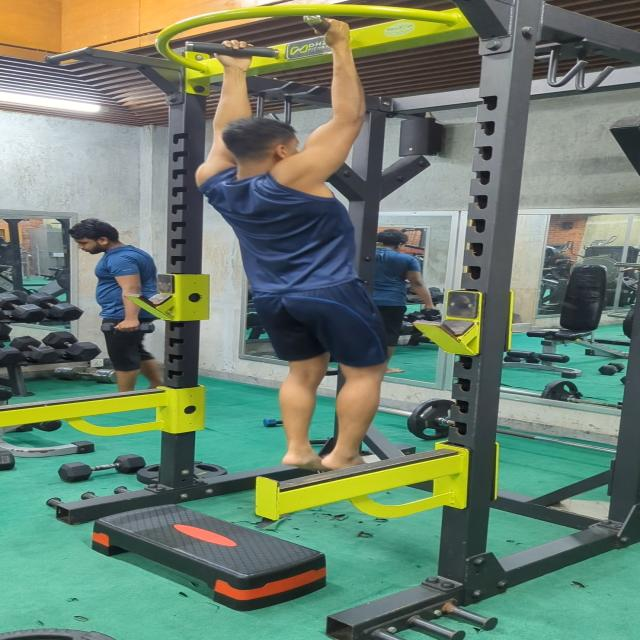Normal_PullUps: (179, 11, 383, 476)
